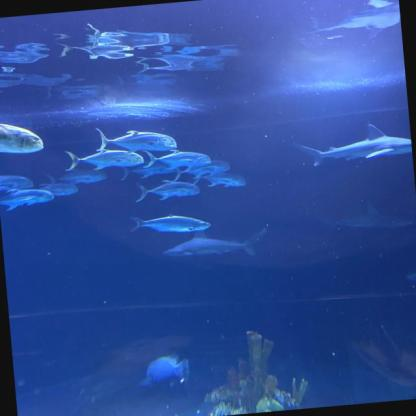fish: (94, 120, 177, 158), (62, 144, 144, 173), (128, 209, 211, 237), (136, 352, 190, 392), (141, 144, 212, 172), (0, 116, 44, 156), (134, 177, 201, 203), (168, 158, 231, 183), (0, 185, 55, 213), (45, 166, 108, 188), (119, 158, 177, 181), (190, 170, 247, 191), (0, 169, 34, 193), (39, 180, 79, 198)
shark: (293, 121, 412, 168), (160, 225, 270, 264), (313, 199, 412, 236), (405, 264, 415, 290)
